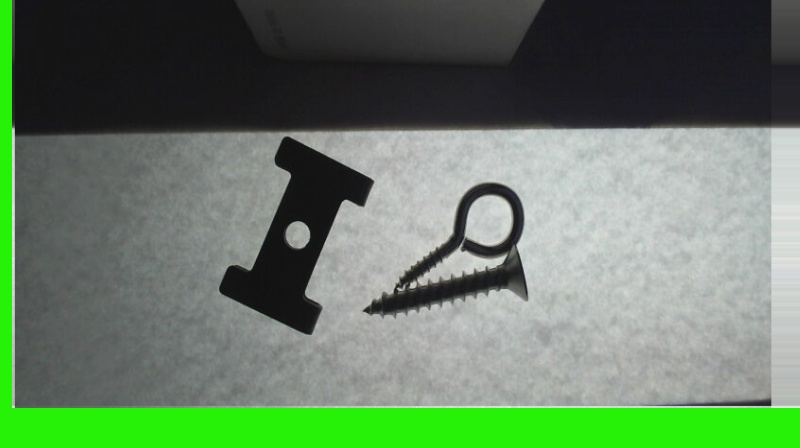O001: (392, 181, 523, 288)
O002: (216, 134, 374, 335)
S001: (360, 245, 527, 317)
